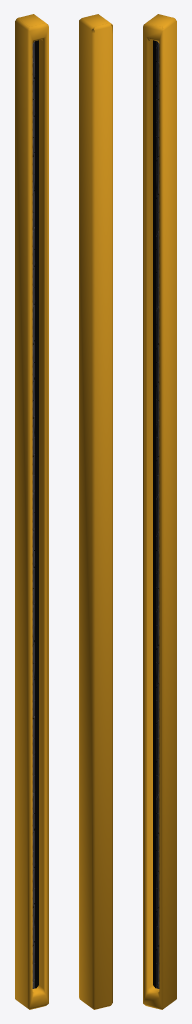
Rendered from ConveyorBelt.fbx.
3 renders of one model, left to right at view 1: azimuth 30°, elevation 25°; view 2: azimuth 210°, elevation 25°; view 3: azimuth 330°, elevation 25°, orthographic.
Parts seen in each view (by area): view 1: ConveyorBelt, Belt; view 2: ConveyorBelt; view 3: ConveyorBelt, Belt.
Part boxes in pixels (x1=…): ConveyorBelt: x1=15, y1=14, x2=48, y2=1009; Belt: x1=32, y1=40, x2=38, y2=988; ConveyorBelt: x1=79, y1=14, x2=112, y2=1009; ConveyorBelt: x1=143, y1=14, x2=176, y2=1009; Belt: x1=153, y1=40, x2=159, y2=988.
Size of the model in its own units: 22.48 by 1000 by 27.57.
2 materials, 2 textured.
